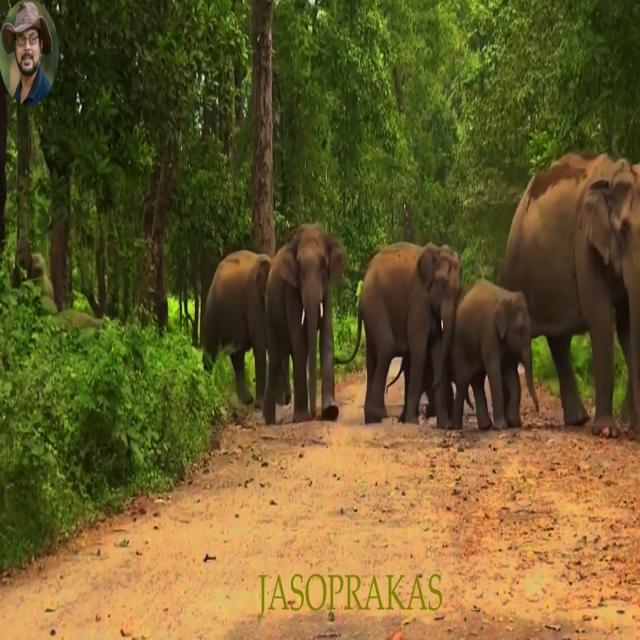Elephant: (504, 150, 640, 438), (334, 240, 462, 427), (262, 222, 347, 424), (451, 278, 539, 431), (200, 249, 272, 408)
